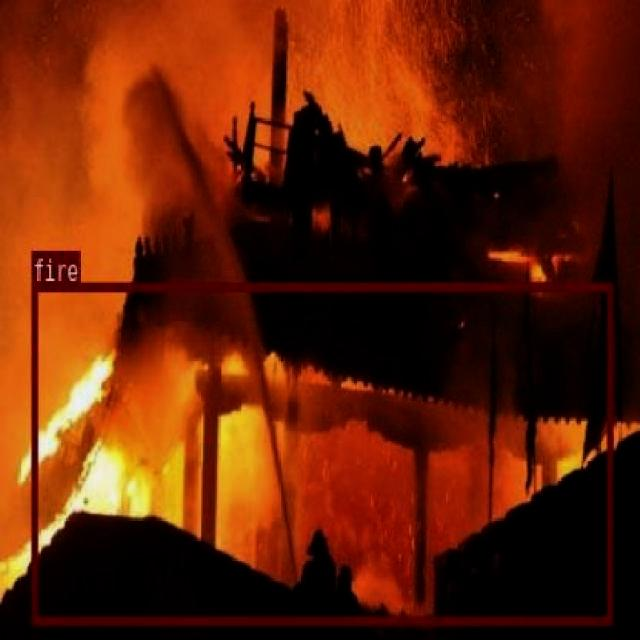fire: (30, 282, 612, 624)
